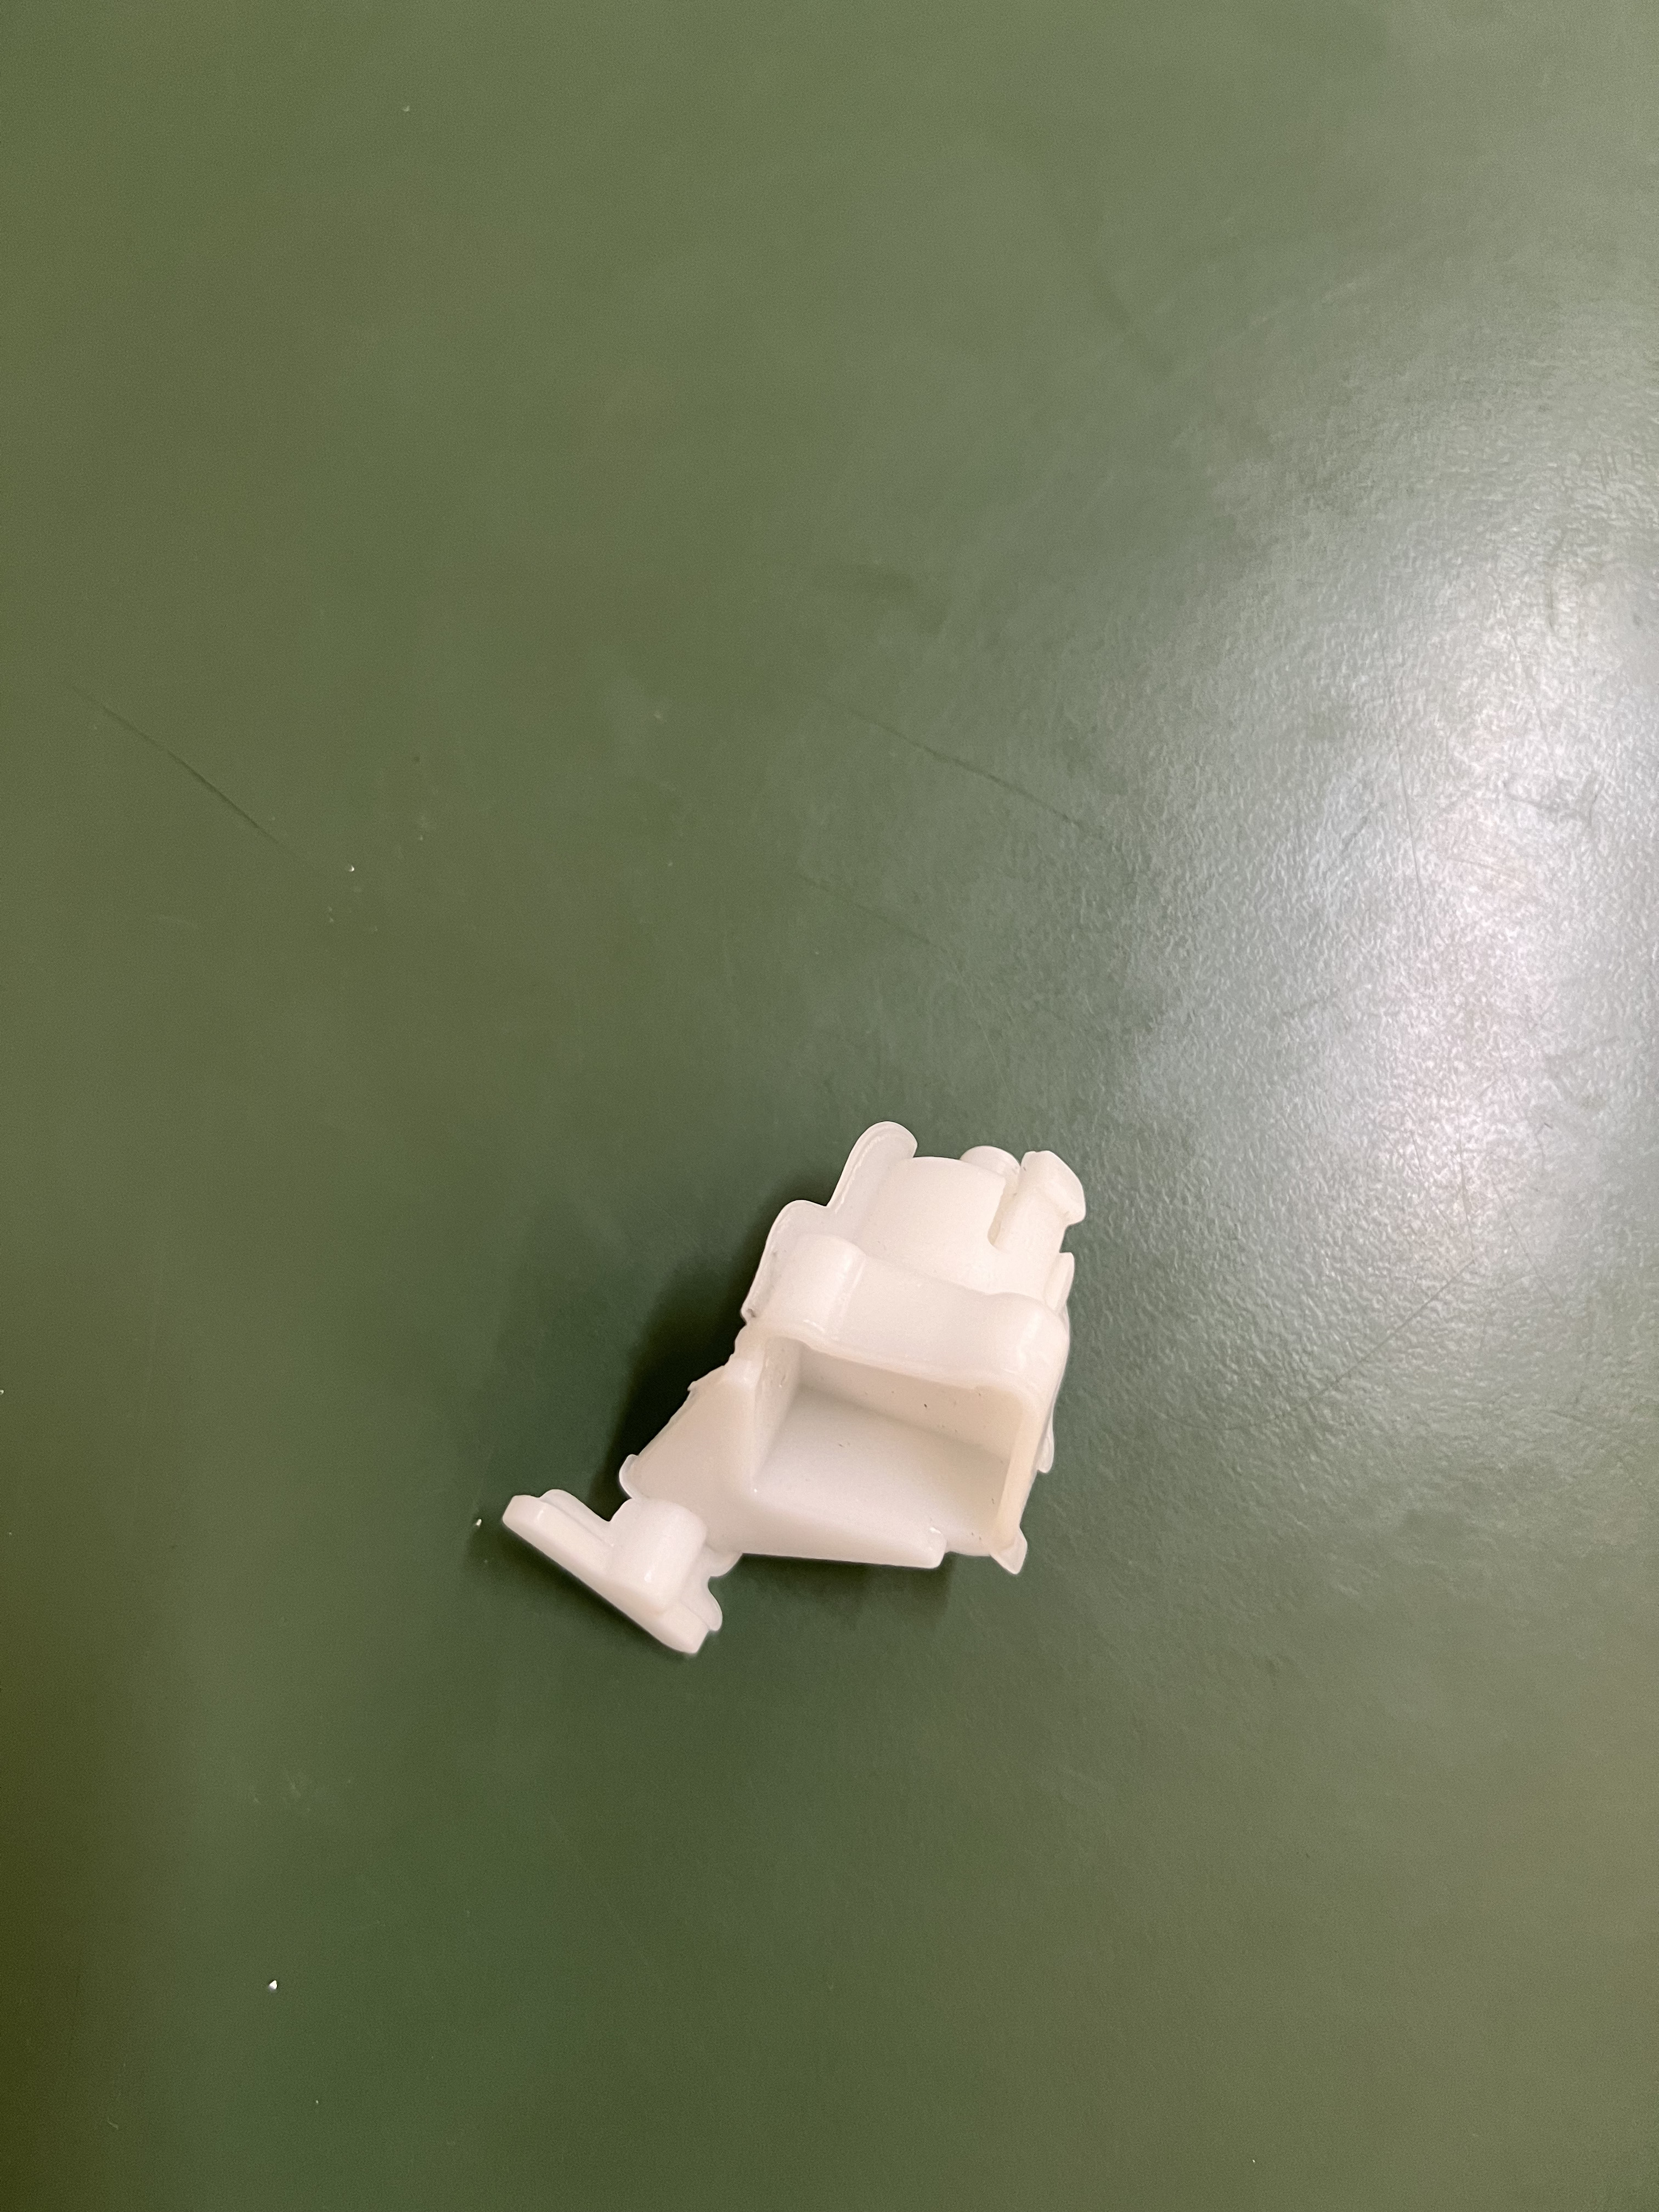drain_lever: (458, 1094, 1124, 1658)
